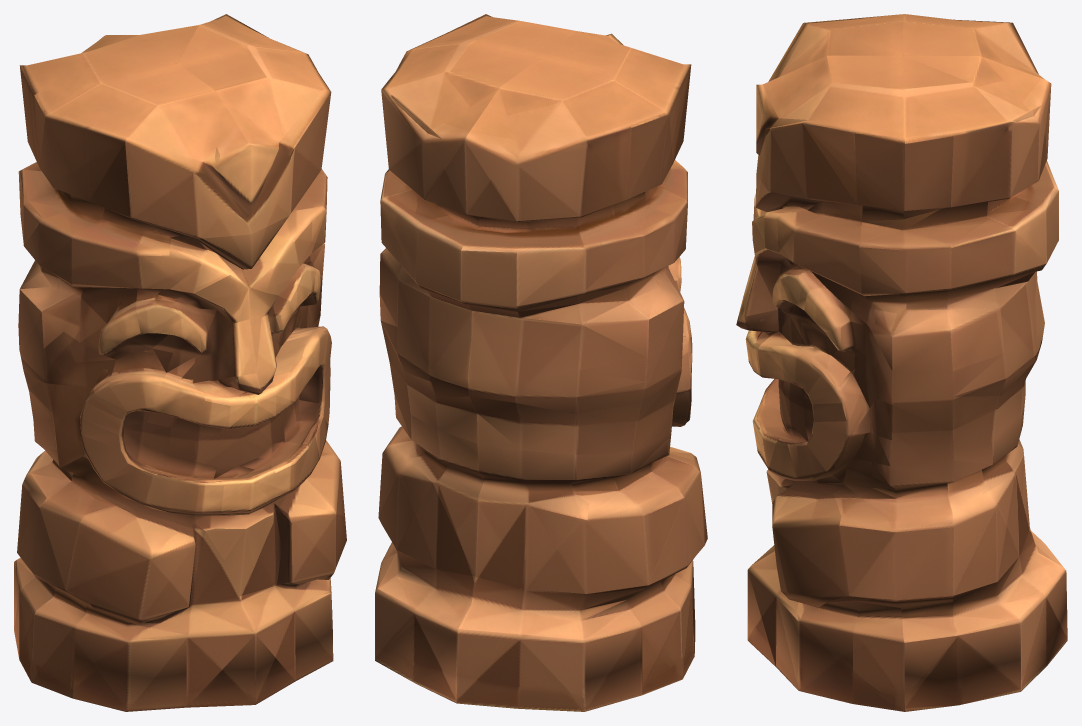
Rendered from tiki-wood.glb.
3 renders of one model, left to right at view 1: azimuth 30°, elevation 25°; view 2: azimuth 150°, elevation 25°; view 3: azimuth 270°, elevation 25°, orthographic.
Size of the model in its own units: 0.5293 by 1 by 0.5137.
1 material, 1 textured.
